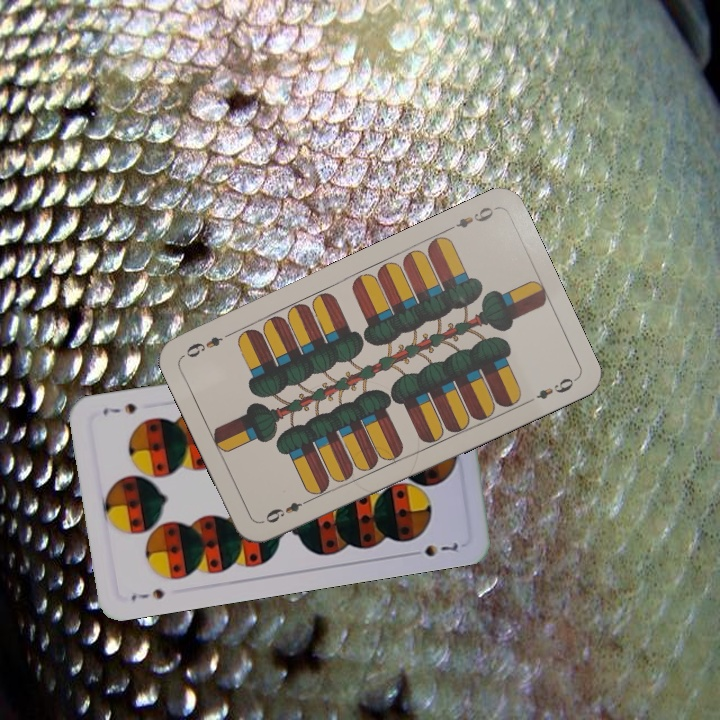E9: (442, 203, 497, 234), (261, 494, 314, 526)
S7: (127, 584, 167, 604)
